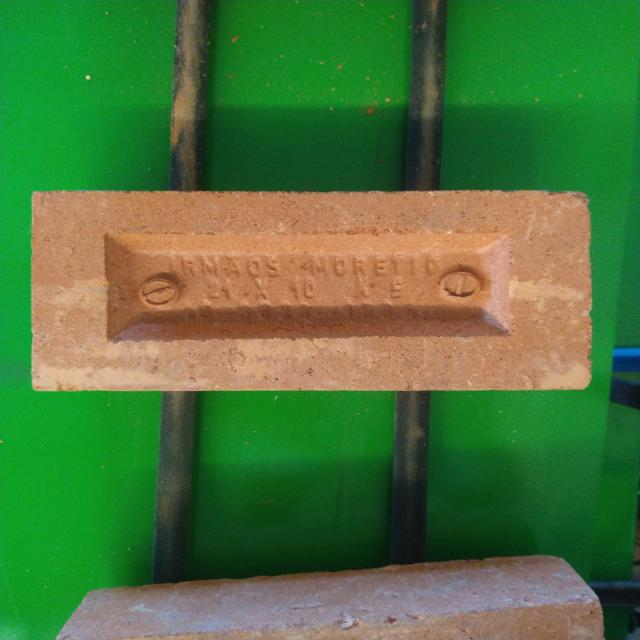bricks: (29, 187, 591, 390), (55, 552, 600, 640)
